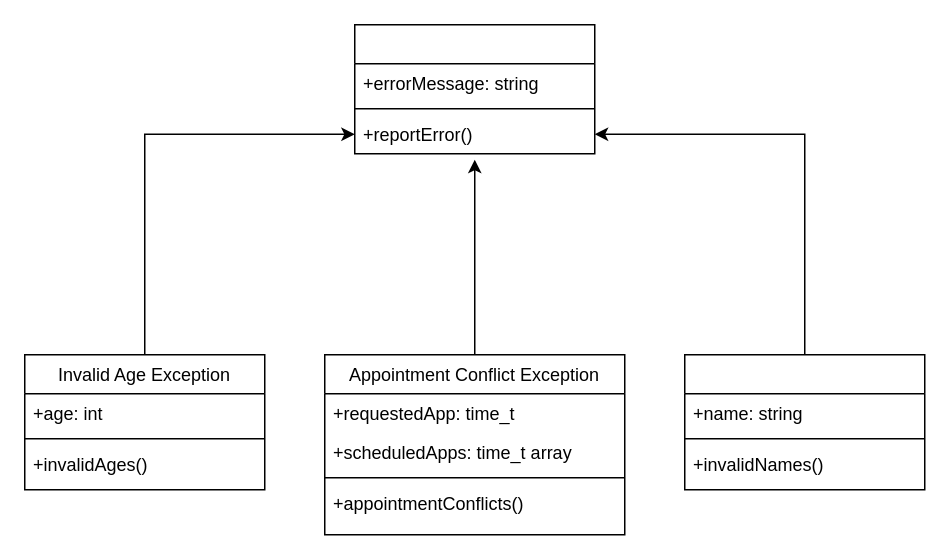
Some shapes in this 950 by 560 pixel diagram are drawn without their labels. Here are the shapes that lost their labels. From the top down, the box of each, then its label:
(353, 23, 595, 154): Base Exception
(683, 353, 925, 490): Invalid Name Exception
